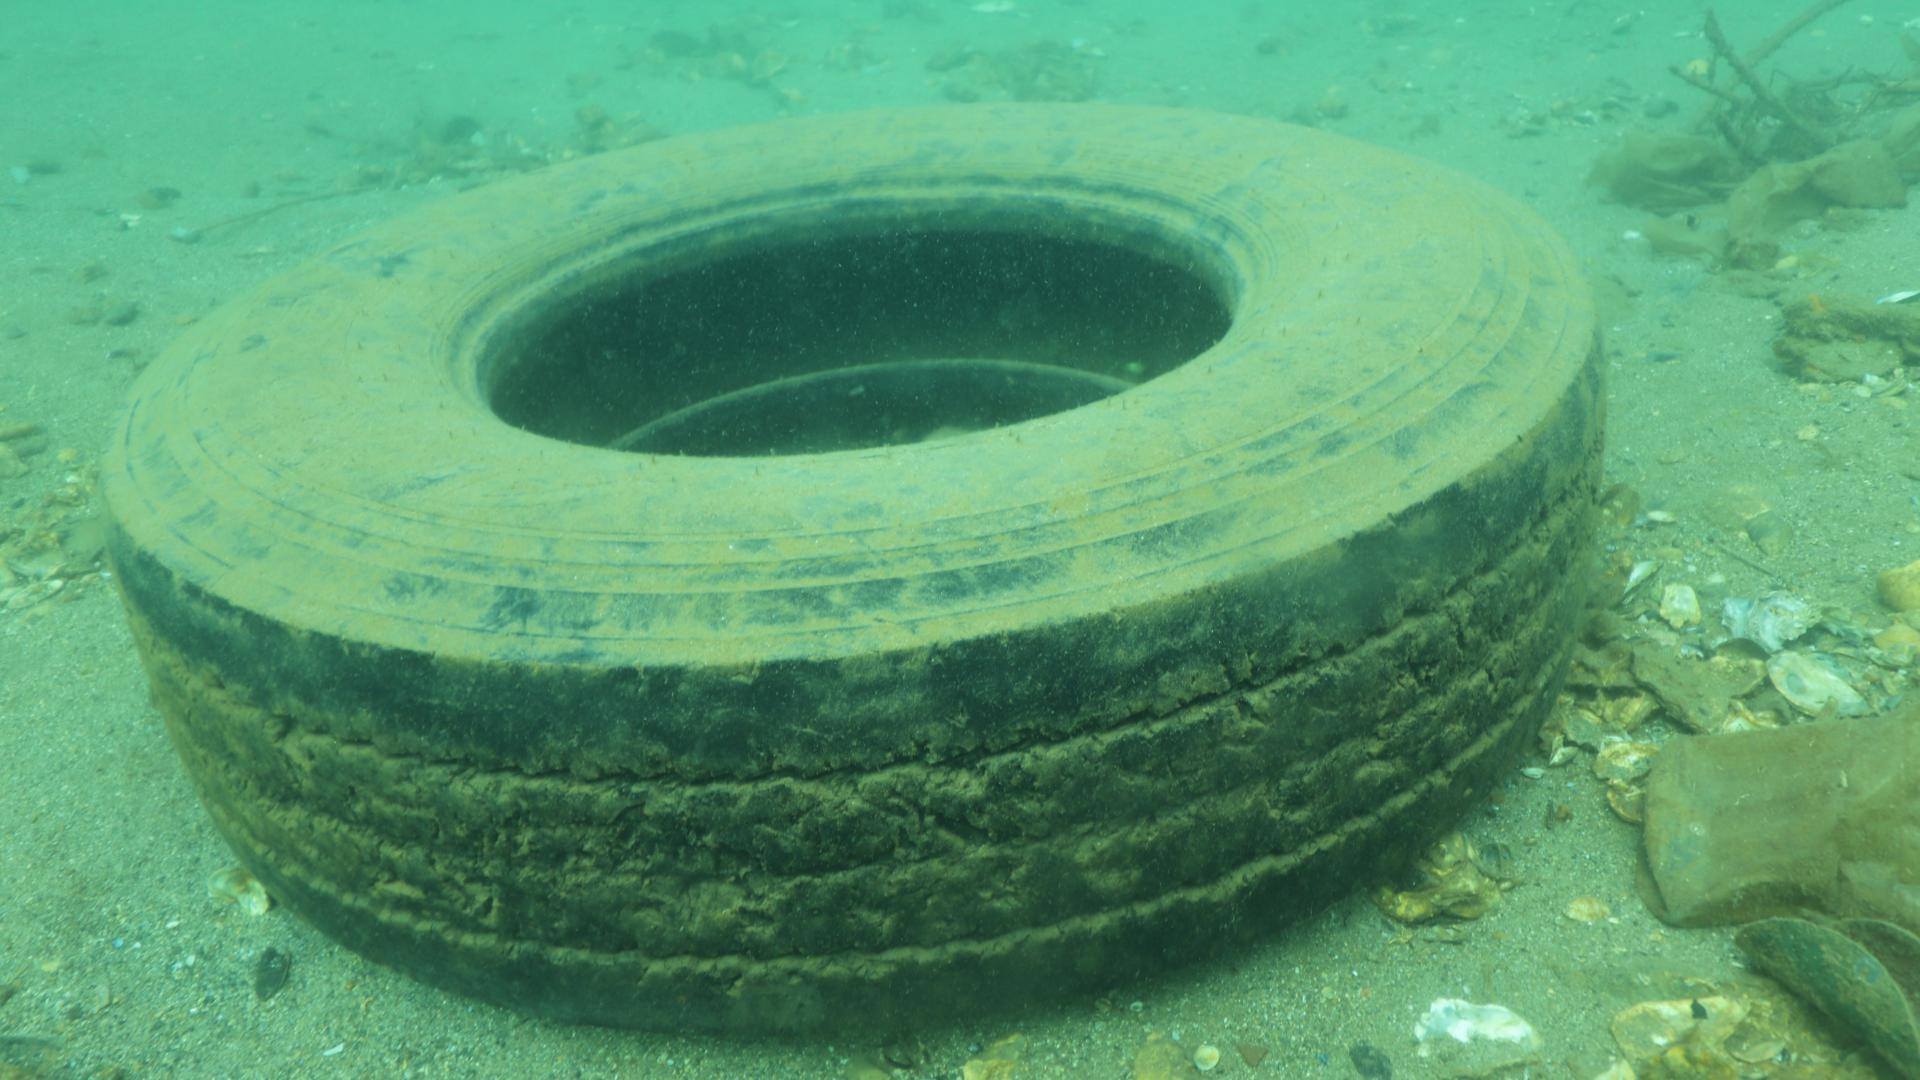tire: (102, 99, 1604, 1036)
